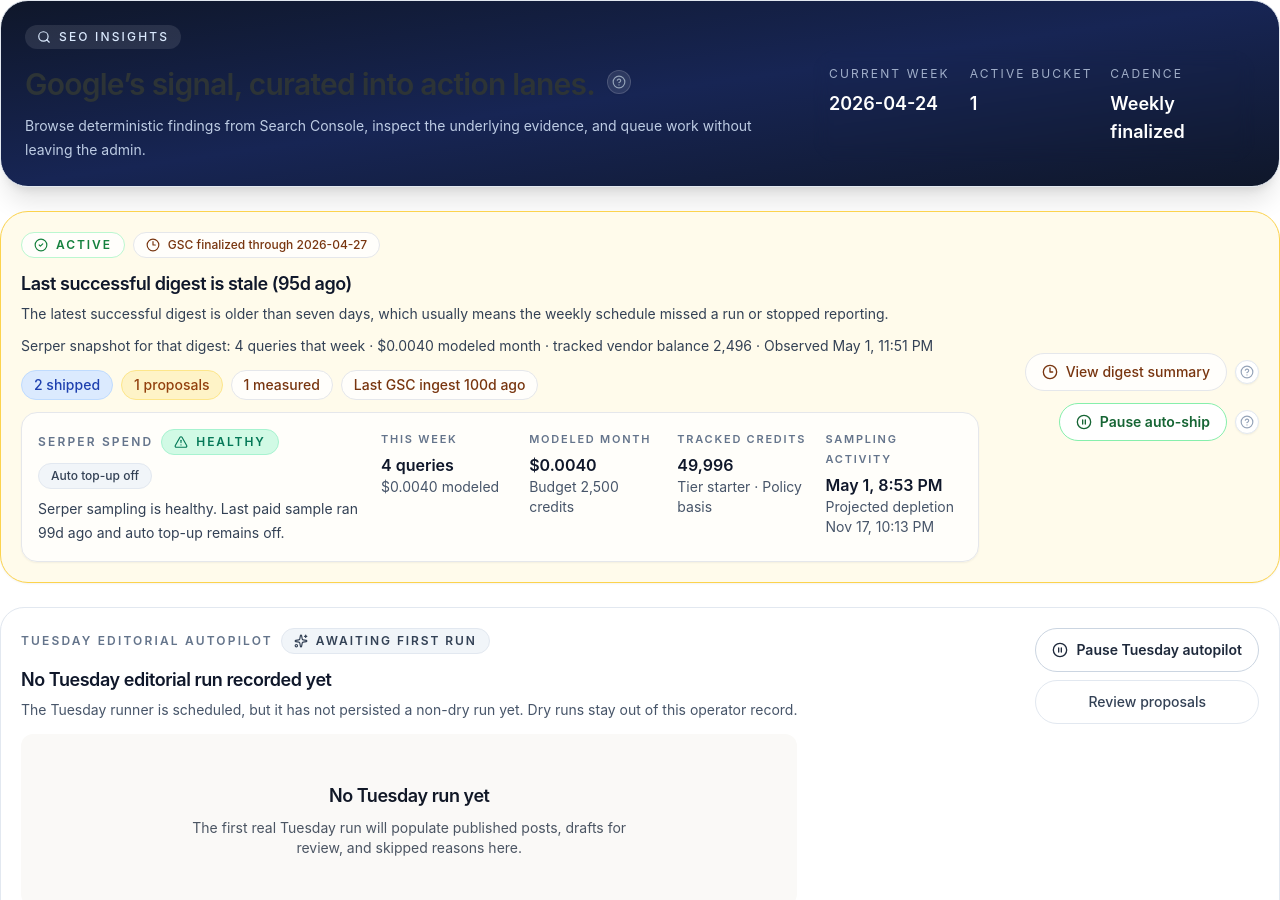
Test: SeoInsightsPage › opens an in-page digest summary when the persisted digest URL loops back to seo insights
The image size is (1280, 900).
Click the button with test id "view-digest-summary": (1126, 372) [1025,353,1227,391]
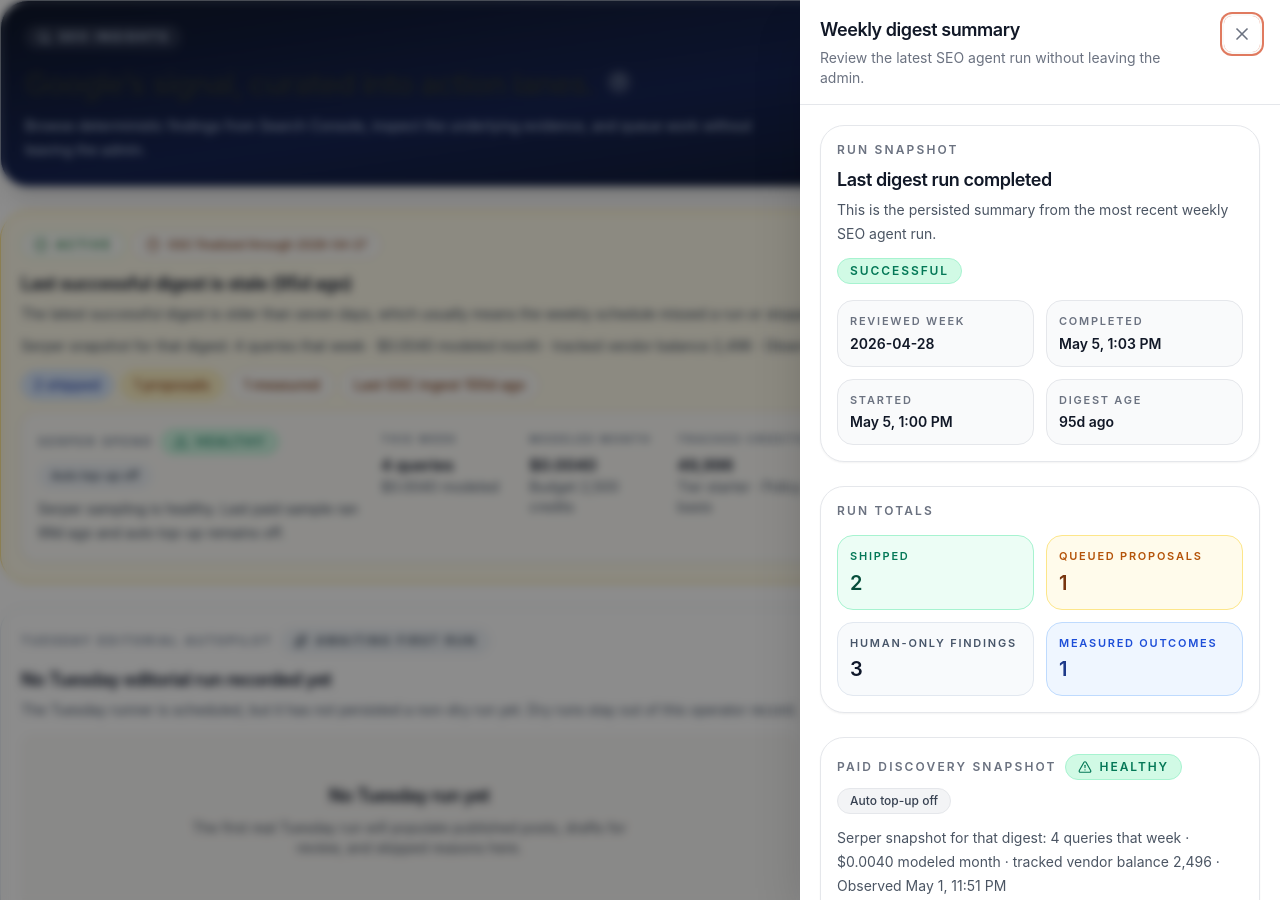
Check: the element with test id "seo-digest-summary-drawer" is shown, box [800,105,1279,899]
Check: the heading "Last digest run completed" is shown, box [837,169,1052,190]
Check: the text "Run totals" is shown, box [837,503,934,518]
